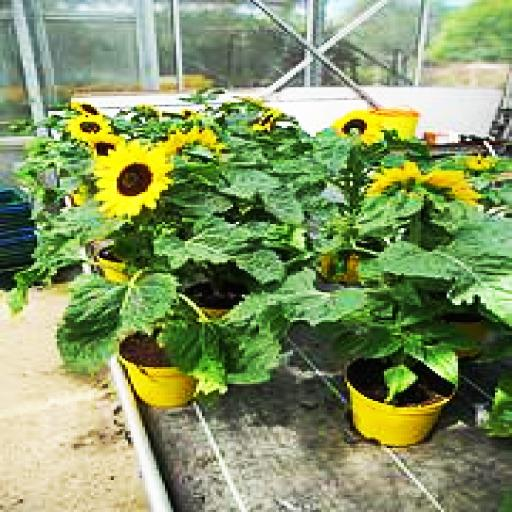sunflower: (94, 138, 171, 220), (370, 166, 480, 214), (165, 128, 222, 162), (333, 111, 381, 139), (66, 113, 116, 137)
